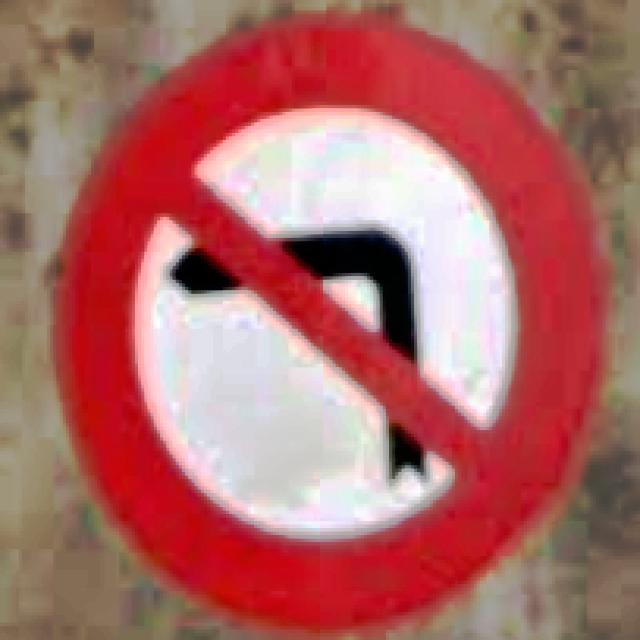noturnleft: (50, 7, 609, 636)
